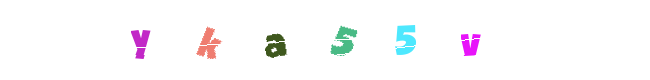5: (285, 0, 365, 80), (297, 0, 377, 80)
A: (259, 0, 339, 80)
K: (235, 0, 315, 80)
V: (364, 0, 444, 80)
Y: (170, 0, 250, 80)
